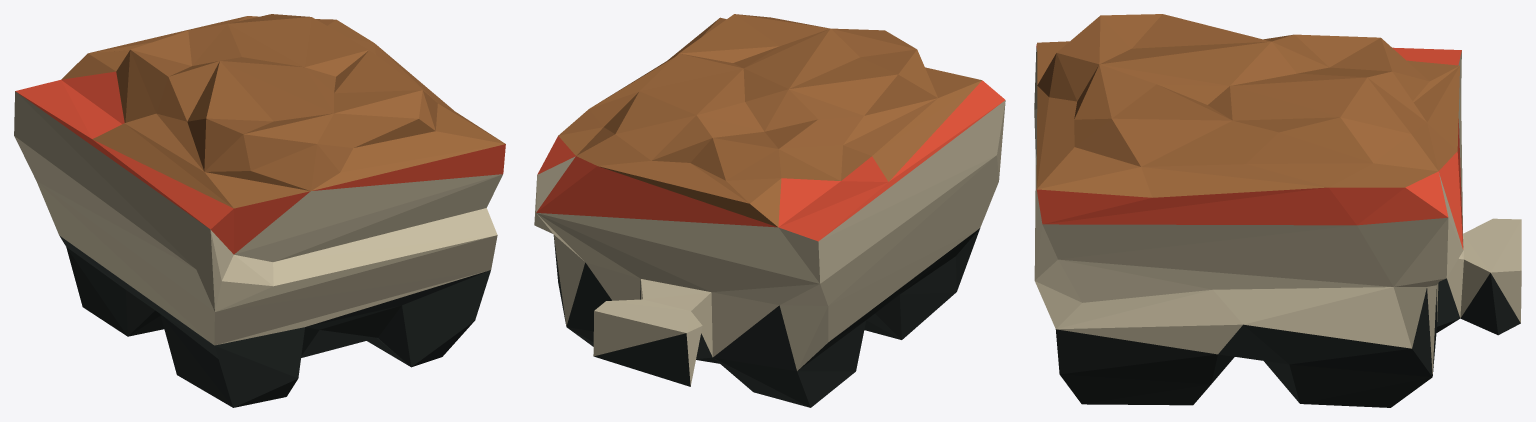
File: trial_w12_cart.glb
3 renders of one model, left to right at view 1: azimuth 30°, elevation 25°; view 2: azimuth 150°, elevation 25°; view 3: azimuth 270°, elevation 25°, orthographic. The views are drawn at different scales.
Visible parts, largest first — view 1: trial_cart; view 2: trial_cart; view 3: trial_cart.
Part boxes in pixels (x1,y1,x2,y2): trial_cart: (14,14,505,407); trial_cart: (534,14,1005,407); trial_cart: (1034,14,1521,407).
Bounding box in the file's own units: 1.65 × 1.4 × 2.11.
